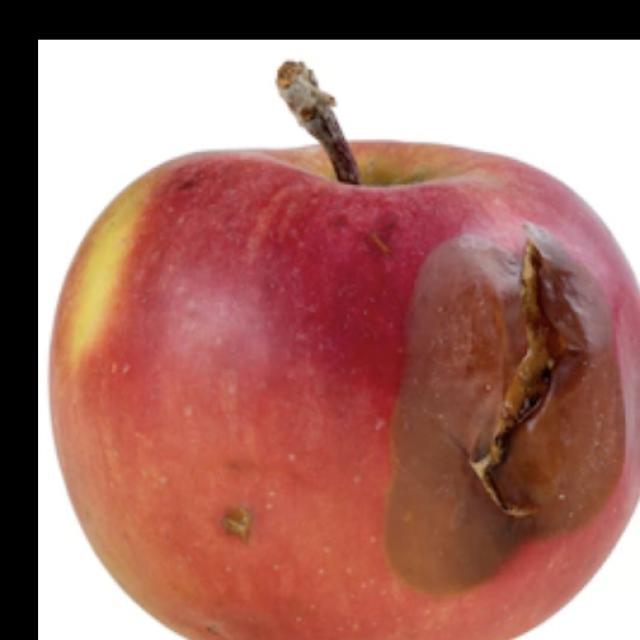Rotten: (86, 152, 626, 622)
